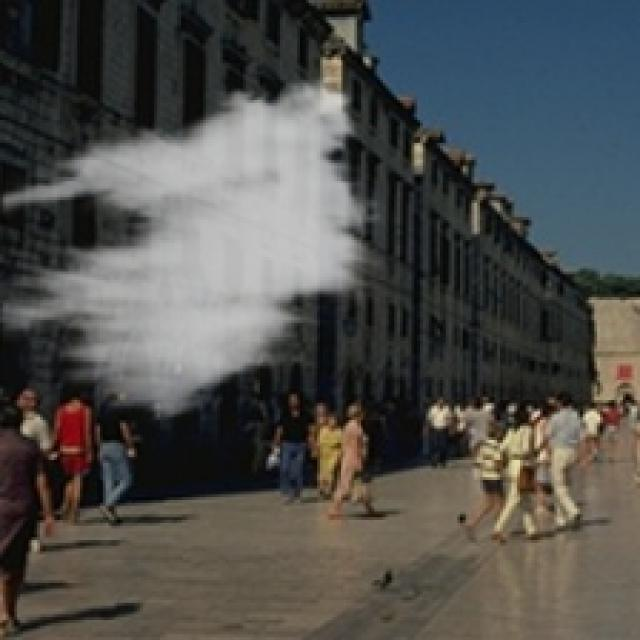smoke: (0, 63, 386, 428)
